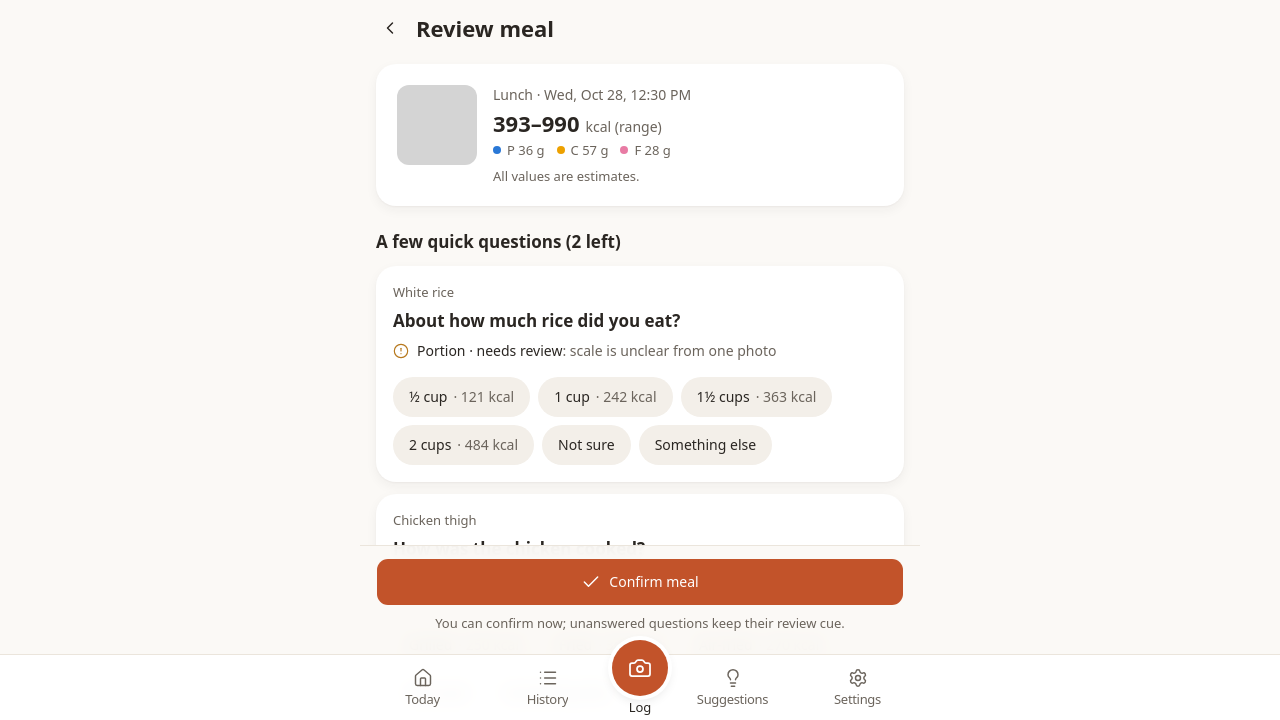
Test: ReviewPage (MSW) › shows asked clarifications with review cues and answers one
The width and height of the screenshot is (1280, 720).
Expected: the heading "About how much rice did you eat?" is shown, [393,309,680,332]
Expected: the heading "How was the chicken cooked?" is shown, [393,537,645,560]
What coordinates should you click on to do the following:
click the button "1½ cups · 363 kcal"
I would click on:
 (756, 397)
Its box is [680,377,832,417].
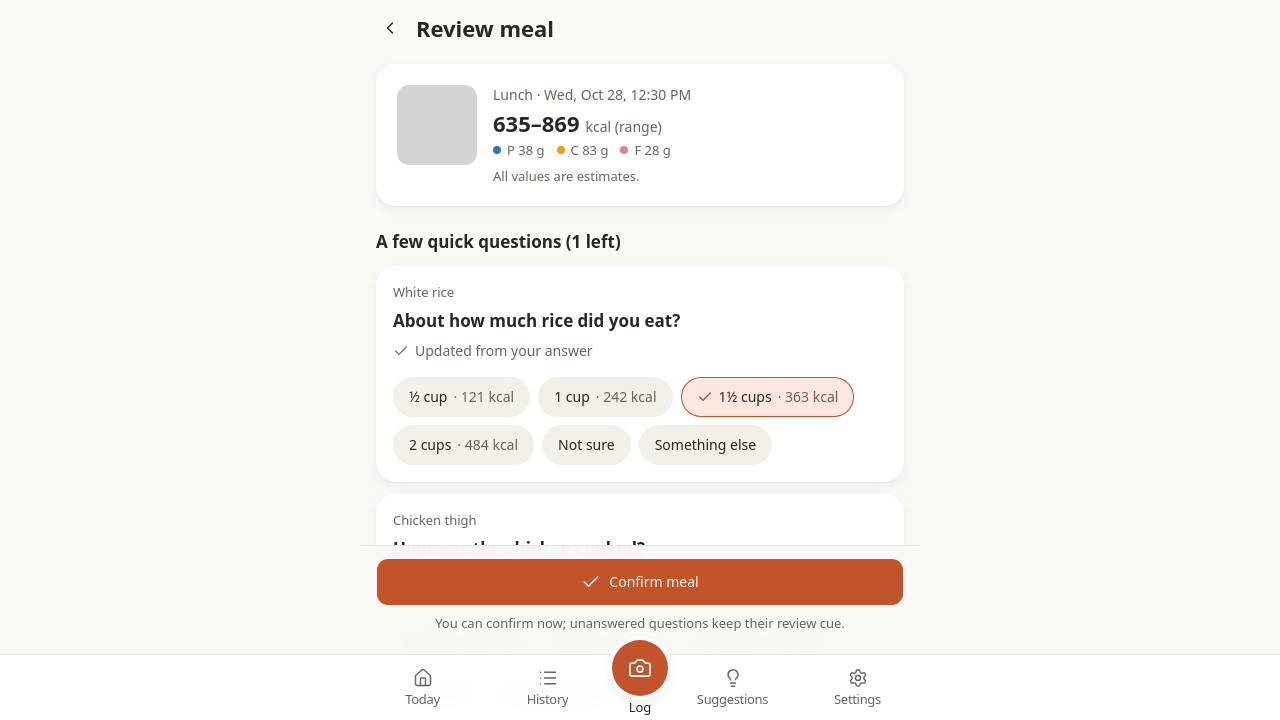
Expected: the heading "A few quick questions (1 left)" is shown, [376,230,621,253]
